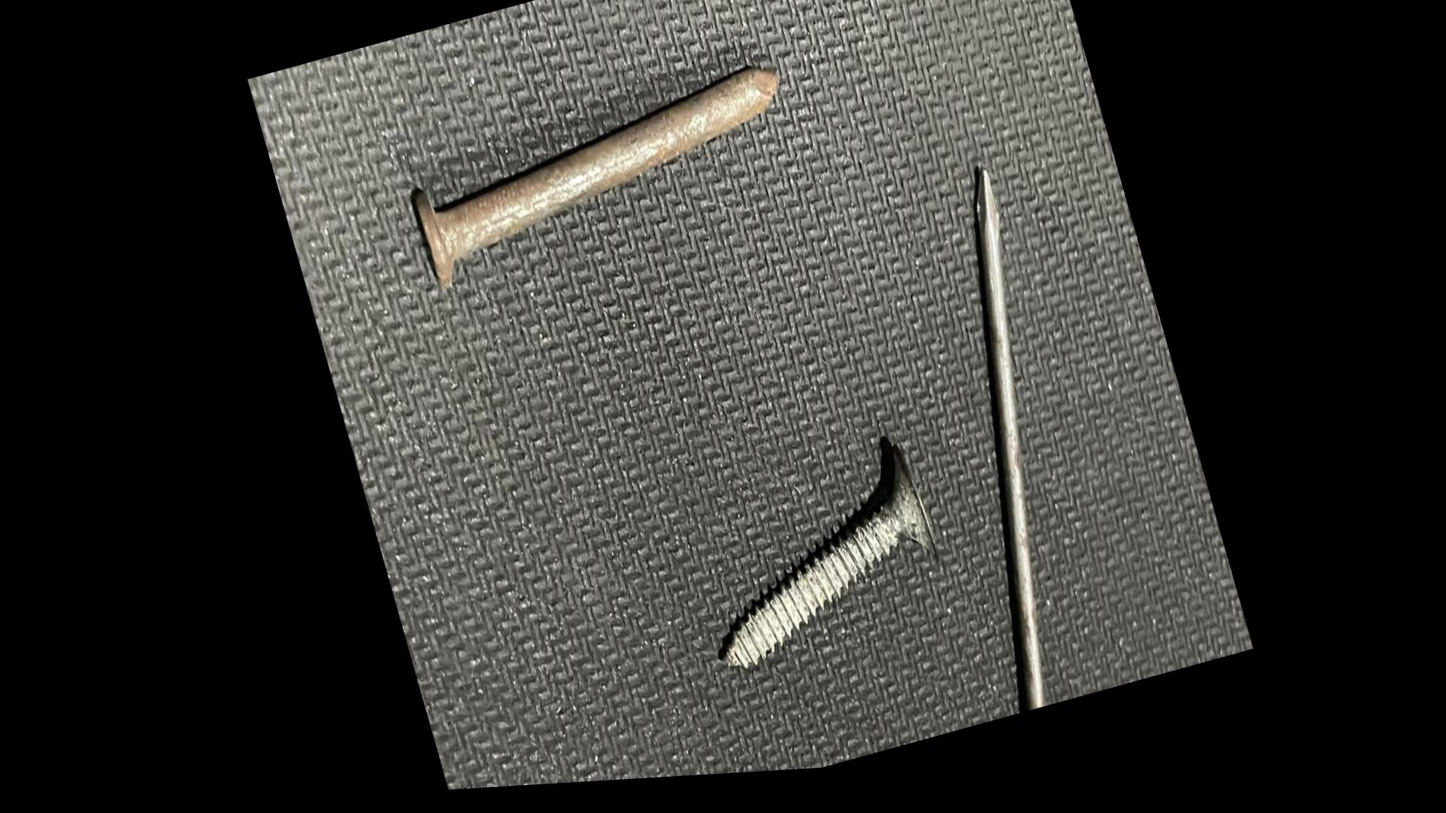nail: (315, 0, 845, 393), (825, 140, 1172, 740)
screw: (614, 380, 990, 785)
